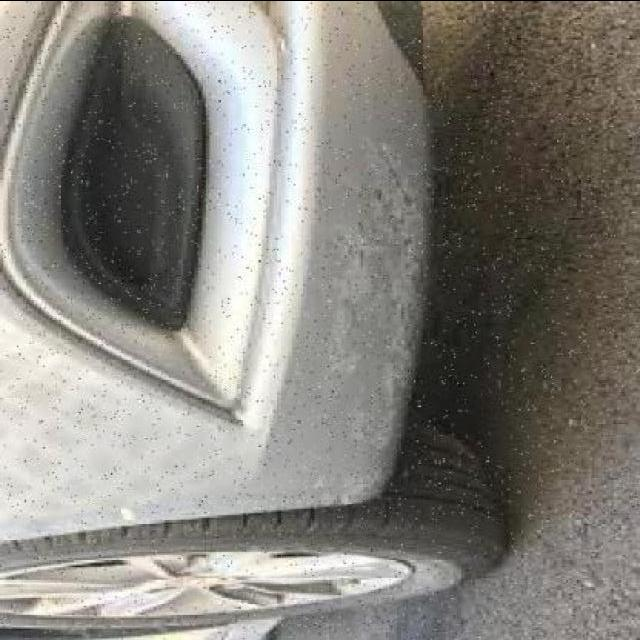front-bumper-dent: (141, 8, 457, 540)
